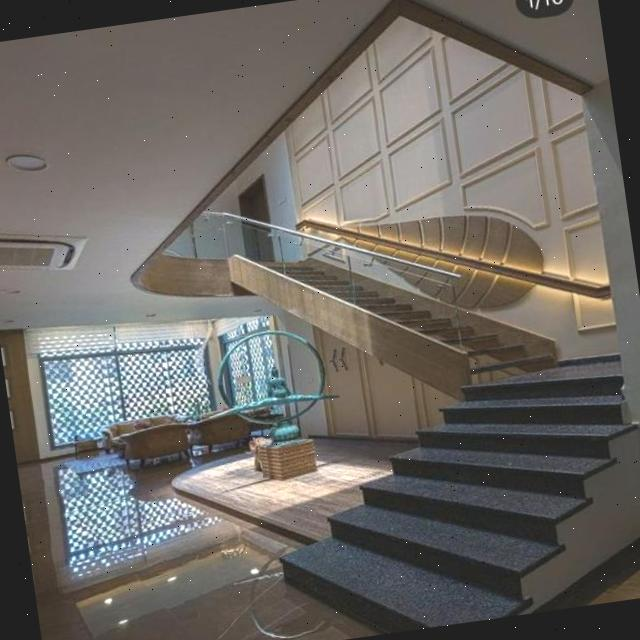stairs: (256, 347, 640, 640), (228, 213, 561, 420)
